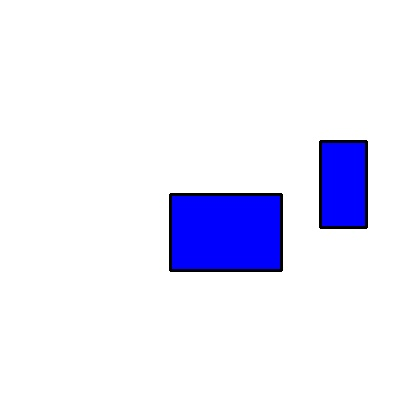rectangle: (170, 194, 281, 270), (320, 141, 366, 227)
